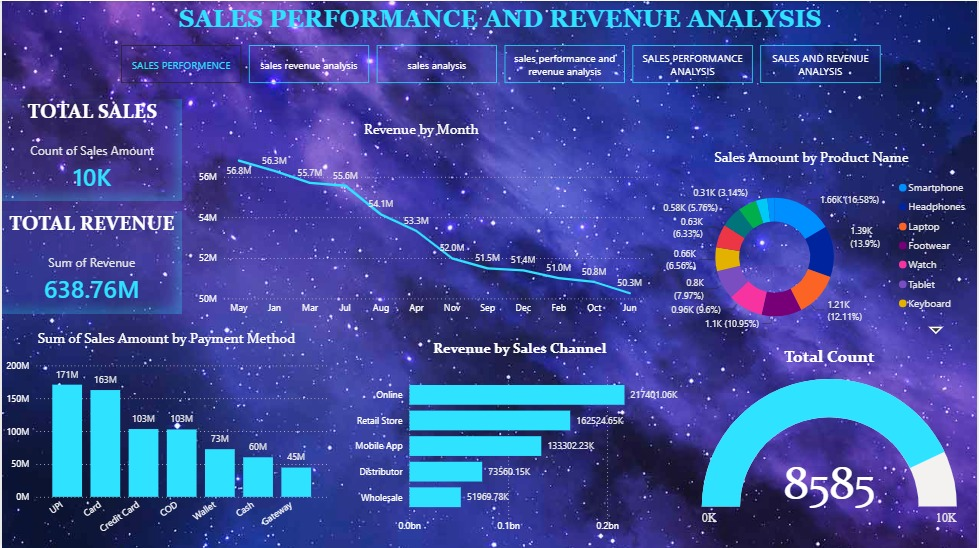

The dashboard page shown, as its layout file describes it:
{"tool":"powerbi","page":{"name":"SALES PERFORMENCE","canvas":[1280,720],"ordinal":0},"visuals":[{"type":"textbox","box":[228.5,0,858.8,57.8],"z":0,"group":"g1"},{"type":"columnChart","fields":{"Category":["Sales_Data.Payment Method"],"Y":["Sum(Sales_Data.Sales Amount)"]},"box":[0,430.9,432.2,289.5],"z":0},{"type":"pageNavigator","box":[156.9,57.8,1000,50],"z":1000,"group":"g1"},{"type":"lineChart","title":"Revenue by Month","fields":{"Category":["Sales_Data.Month"],"Y":["Sum(Sales_Data.Revenue)"]},"box":[253.1,155.9,594.9,264.6],"z":1000},{"type":"barChart","title":"Revenue by Sales Channel","fields":{"Category":["Sales_Data.Sales Channel"],"Y":["Sum(Sales_Data.Revenue)"]},"box":[452.8,444.6,454.2,264.3],"z":2000},{"type":"donutChart","title":"Sales Amount by Product Name","fields":{"Category":["Sales_Data.Product Name"],"Y":["CountNonNull(Sales_Data.Sales Amount)"]},"box":[847.8,192.7,432.2,252.5],"z":3000},{"type":"cardVisual","title":"TOTAL REVENUE","fields":{"Data":["Sum(Sales_Data.Revenue)"]},"box":[0,275.3,236.7,134.9],"z":4000},{"type":"cardVisual","title":"TOTAL SALES","fields":{"Data":["CountNonNull(Sales_Data.Sales Amount)"]},"box":[0,128.7,237.4,134.4],"z":5000},{"type":"gauge","title":"Total Count","fields":{"Y":["Sales_Data.countreturned"]},"box":[907,454.2,360.9,241.5],"z":6000},{"type":"group","id":"g1","title":"Header","box":[156.9,0,1000,107.8],"z":7000}]}

Visuals, with their boxes in screenshot pixels (x1, y1, x2, y2), scaled from the page's 1280x720 canvas onto the 979x548 screenshot:
textbox: Rect(175, 0, 832, 44)
columnChart - Sales_Data.Payment Method x Sum(Sales_Data.Sales Amount): Rect(0, 328, 331, 547)
pageNavigator: Rect(120, 44, 885, 82)
"Revenue by Month" lineChart: Rect(194, 119, 649, 320)
"Revenue by Sales Channel" barChart: Rect(346, 338, 694, 540)
"Sales Amount by Product Name" donutChart: Rect(648, 147, 978, 339)
"TOTAL REVENUE" cardVisual: Rect(0, 210, 181, 312)
"TOTAL SALES" cardVisual: Rect(0, 98, 182, 200)
"Total Count" gauge: Rect(694, 346, 970, 530)
"Header" group: Rect(120, 0, 885, 82)
